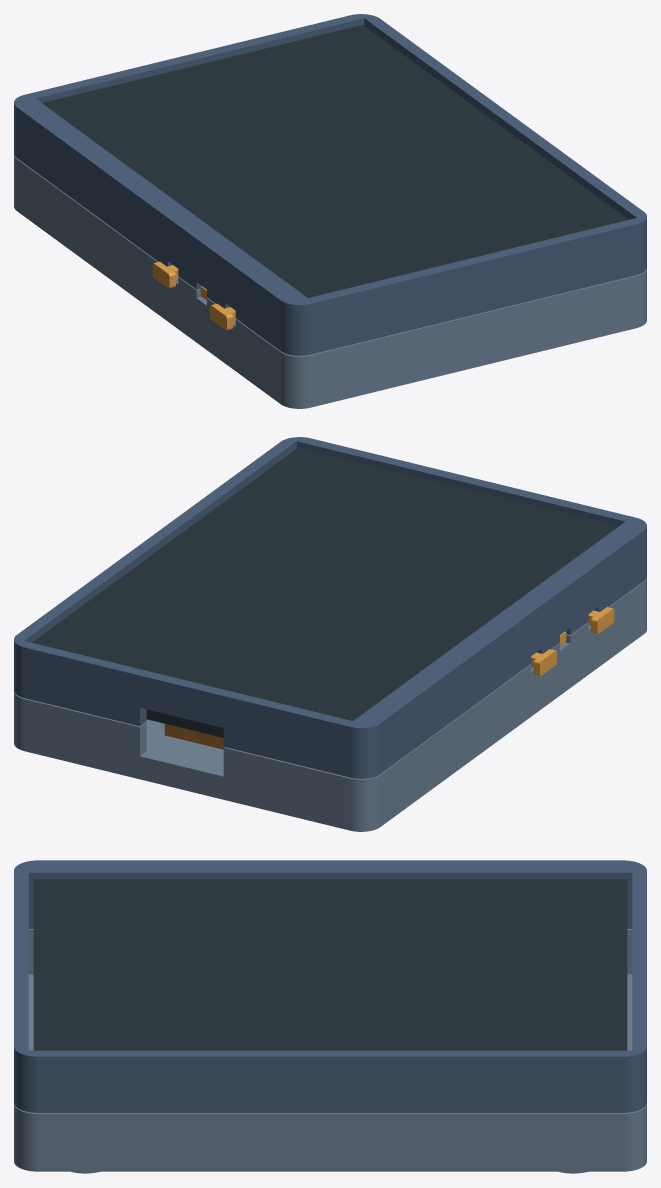
File: assembly_light.glb
3 views of the same model, one above another, from view 1: azimuth 30°, elevation 25°; view 2: azimuth 150°, elevation 25°; view 3: azimuth 270°, elevation 25° (orthographic). The views are drawn at different scales.
Parts seen in each view (by area): view 1: DISPLAY_ENVELOPE_NOT_DETAIL, FRONT_P1_shared_screw_brackets, REAR_P1_split_guides_and_supports; view 2: DISPLAY_ENVELOPE_NOT_DETAIL, FRONT_P1_shared_screw_brackets, REAR_P1_split_guides_and_supports, J2_USB_SIDE_ENVELOPE_NOT_DETAIL; view 3: DISPLAY_ENVELOPE_NOT_DETAIL, FRONT_P1_shared_screw_brackets, REAR_P1_split_guides_and_supports.
Part boxes in pixels (x1=…): DISPLAY_ENVELOPE_NOT_DETAIL: x1=42, y1=25, x2=628, y2=297; FRONT_P1_shared_screw_brackets: x1=14, y1=14, x2=646, y2=355; REAR_P1_split_guides_and_supports: x1=14, y1=155, x2=646, y2=408; DISPLAY_ENVELOPE_NOT_DETAIL: x1=32, y1=448, x2=618, y2=737; FRONT_P1_shared_screw_brackets: x1=14, y1=437, x2=646, y2=778; REAR_P1_split_guides_and_supports: x1=14, y1=578, x2=646, y2=831; J2_USB_SIDE_ENVELOPE_NOT_DETAIL: x1=164, y1=724, x2=224, y2=749; DISPLAY_ENVELOPE_NOT_DETAIL: x1=33, y1=879, x2=627, y2=1050; FRONT_P1_shared_screw_brackets: x1=14, y1=860, x2=646, y2=1112; REAR_P1_split_guides_and_supports: x1=14, y1=929, x2=646, y2=1173.
Bounding box in the file's own units: 0.059 × 0.0176 × 0.0779.
